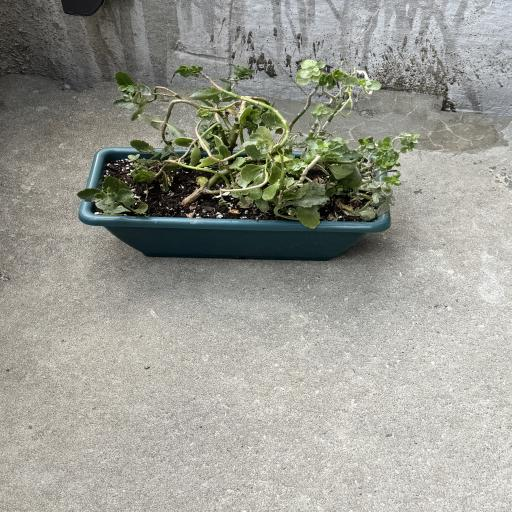Plant Pot: (77, 142, 391, 261)
